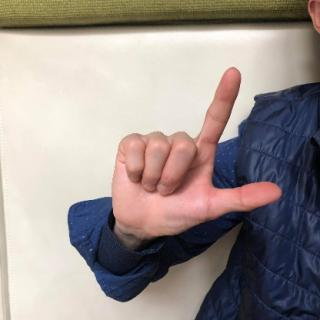LAAM: (109, 64, 284, 246)
